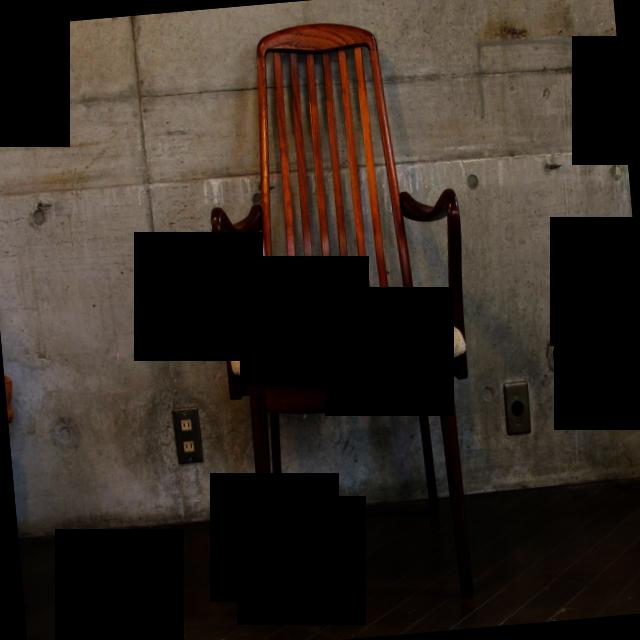chair vintage: (190, 8, 500, 626)
